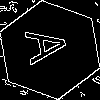A: (25, 25, 79, 66)
